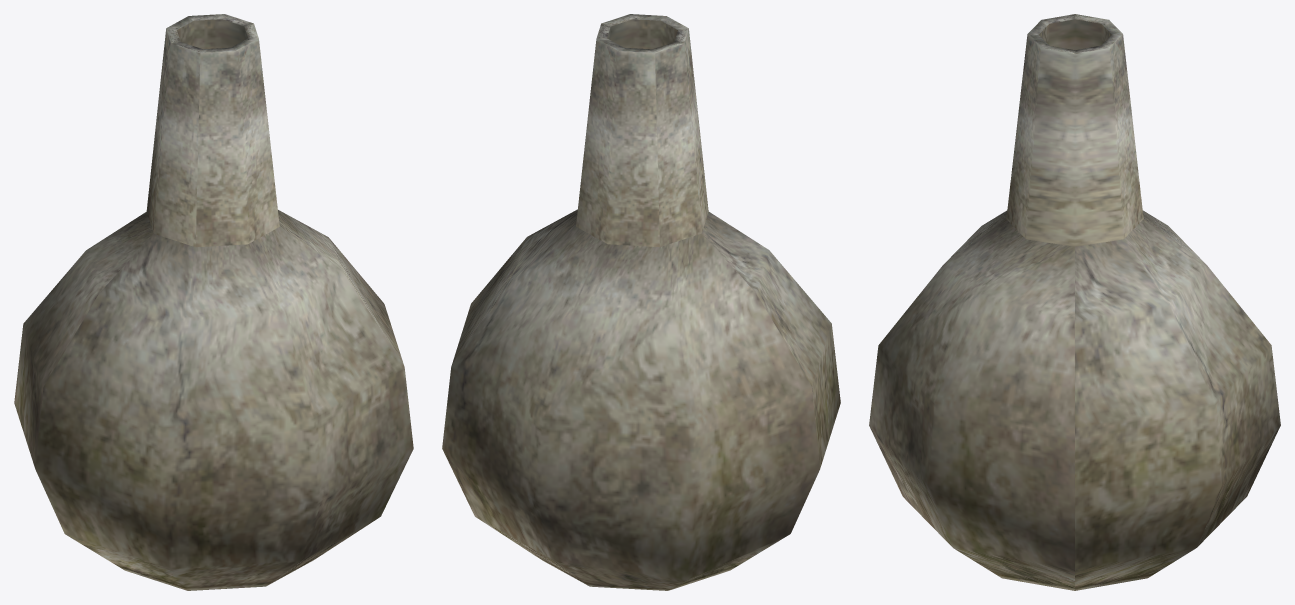
Rendered from thing_jar_white_01.fbx.
3 views of the same model, side by side, from view 1: azimuth 30°, elevation 25°; view 2: azimuth 150°, elevation 25°; view 3: azimuth 270°, elevation 25° (orthographic).
Parts seen in each view (by area): view 1: thing_jar_white_01; view 2: thing_jar_white_01; view 3: thing_jar_white_01.
Part boxes in pixels (x1,y1,x2,y2): thing_jar_white_01: (14,14,413,590); thing_jar_white_01: (442,14,840,590); thing_jar_white_01: (869,14,1280,590).
Bounding box in the file's own units: 0.4574 × 0.6309 × 0.459.
